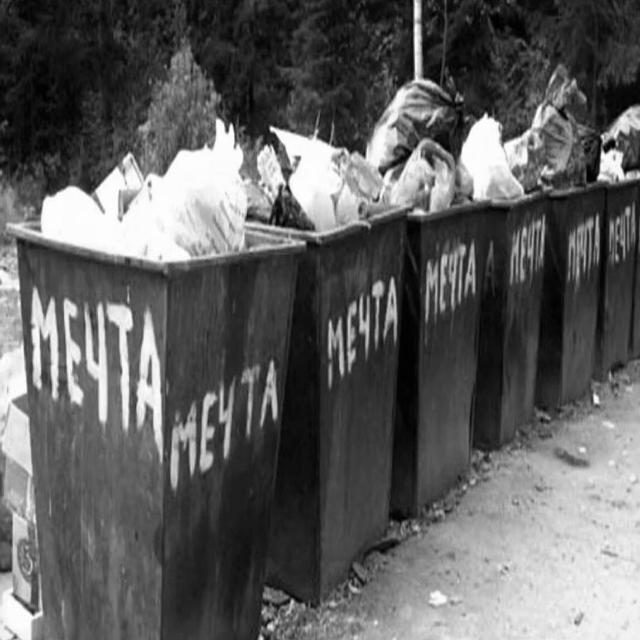Trashcan: (0, 76, 283, 640), (229, 72, 421, 598), (361, 64, 493, 517), (459, 82, 565, 483), (527, 79, 616, 430), (582, 93, 640, 406)
